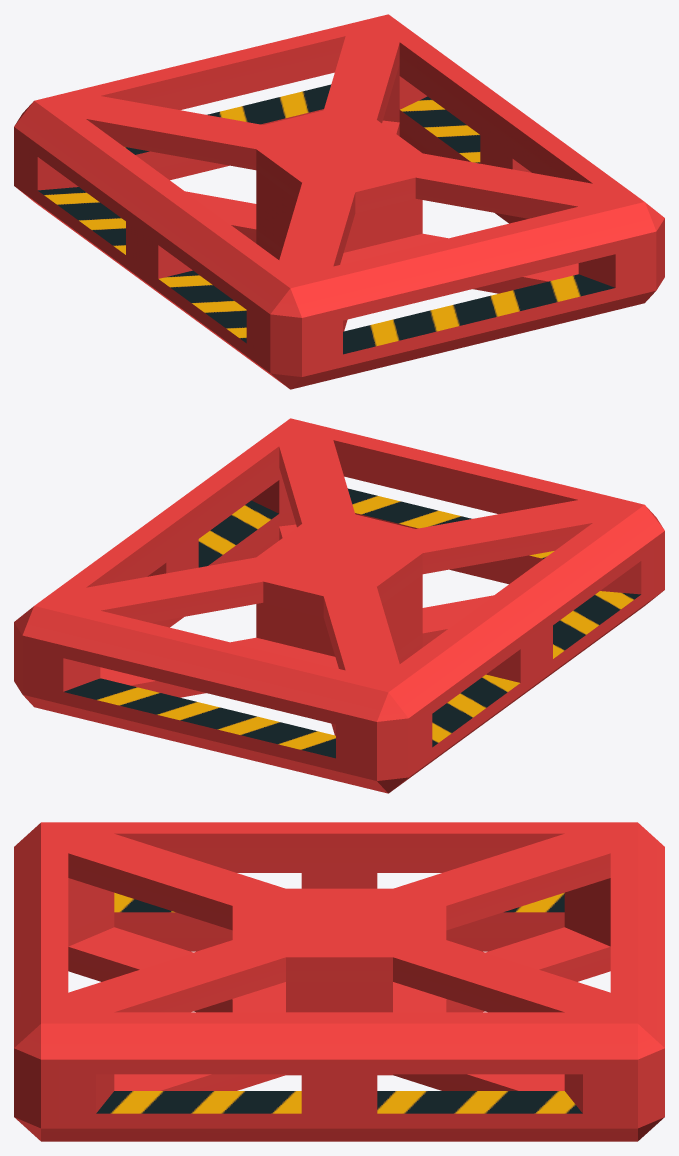
File: Pallete_03.glb
3 renders of one model, top to bottom at view 1: azimuth 30°, elevation 25°; view 2: azimuth 150°, elevation 25°; view 3: azimuth 270°, elevation 25°, orthographic. The views are drawn at different scales.
Visible parts, largest first — view 1: Pallete_03; view 2: Pallete_03; view 3: Pallete_03.
Boxes of the visible parts, x1,y1,x2,y2 form: Pallete_03: [14, 14, 664, 389]; Pallete_03: [14, 418, 664, 793]; Pallete_03: [14, 822, 664, 1141].
Size of the model in its own units: 0.978 by 0.24 by 1.2.
Materials: 1 (1 with a texture image).
